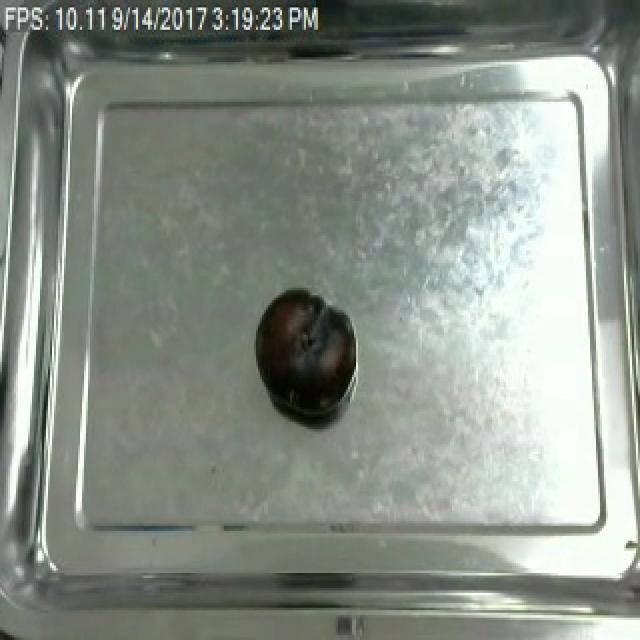Fruit: (250, 285, 338, 412)
